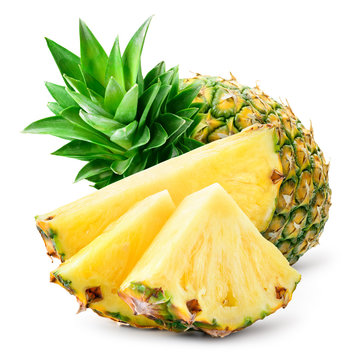Pineapple: (21, 14, 332, 276)
